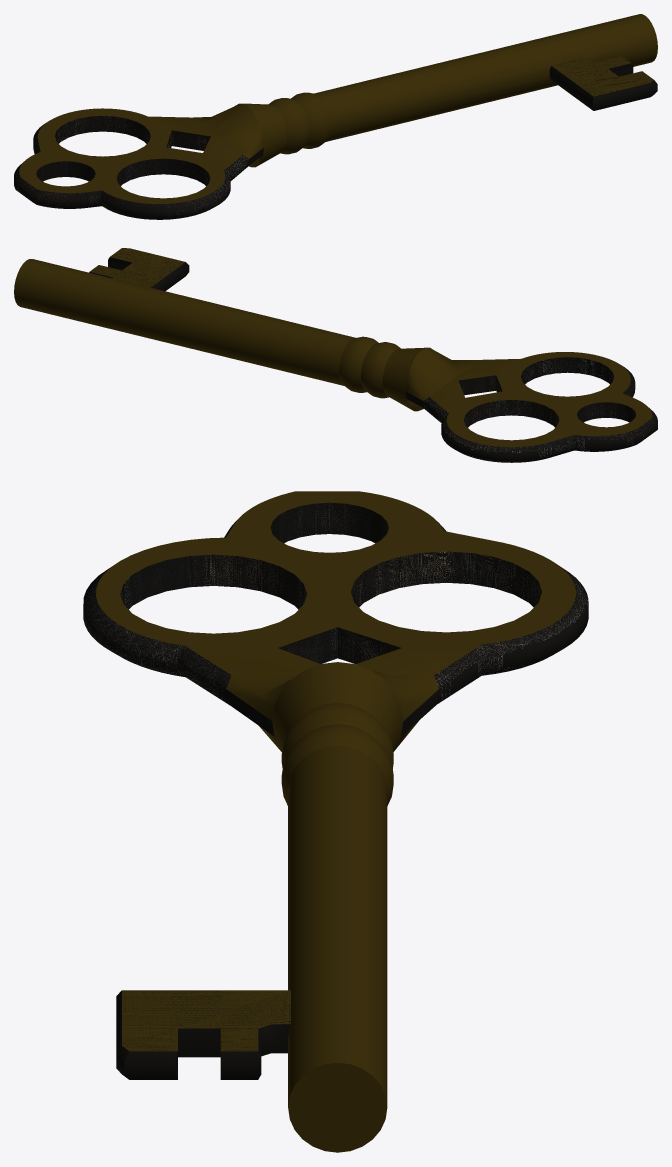
The model's file is Chave.dae.
3 renders of one model, top to bottom at view 1: azimuth 30°, elevation 25°; view 2: azimuth 150°, elevation 25°; view 3: azimuth 270°, elevation 25°, orthographic. The views are drawn at different scales.
Parts seen in each view (by area): view 1: Chave (×9); view 2: Chave (×9); view 3: Chave (×9).
Boxes of the visible parts, bbox=[...] form: Chave (×9): bbox=[14, 14, 657, 219]; Chave (×9): bbox=[14, 248, 657, 462]; Chave (×9): bbox=[83, 491, 588, 1152].
Bounding box in the file's own units: 130 × 45.79 × 11.88.
4 materials, 1 textured.
